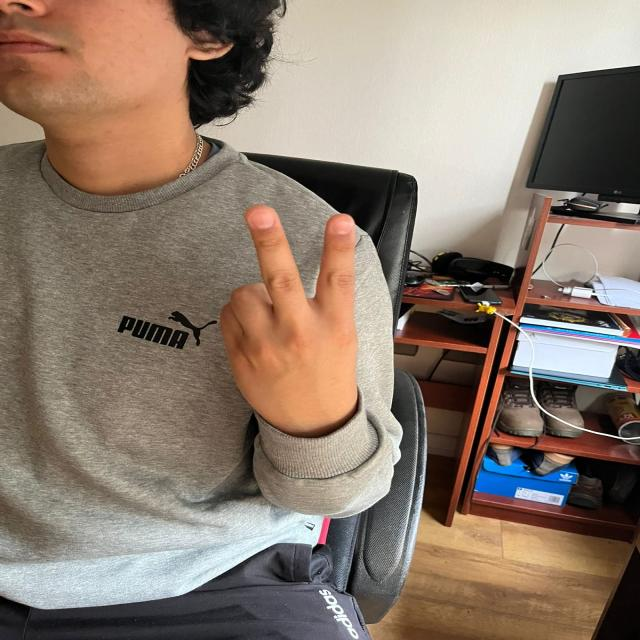V: (213, 201, 364, 426)
